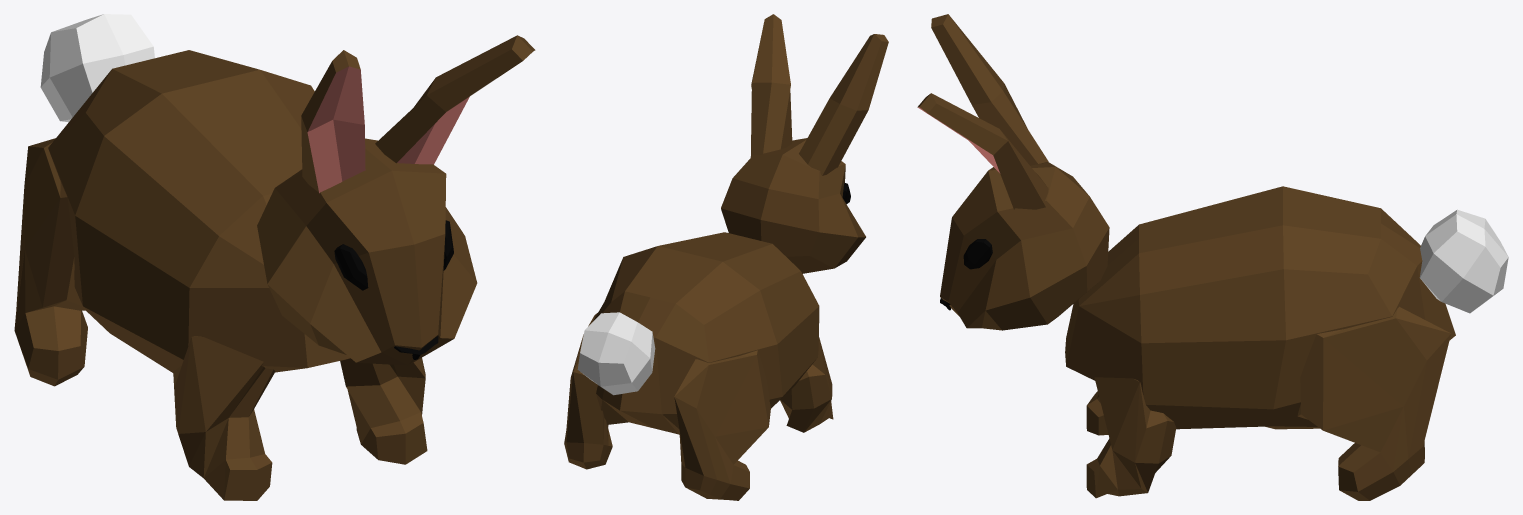
File: Bunny.fbx
3 renders of one model, left to right at view 1: azimuth 30°, elevation 25°; view 2: azimuth 150°, elevation 25°; view 3: azimuth 270°, elevation 25°, orthographic. The views are drawn at different scales.
Parts seen in each view (by area): view 1: Bunny; view 2: Bunny; view 3: Bunny.
Boxes of the visible parts, box(x1,y1,x2,y2) form: Bunny: box(14, 14, 535, 500); Bunny: box(564, 14, 888, 500); Bunny: box(917, 14, 1508, 500).
Bounding box in the file's own units: 0.0172 × 0.0301 × 0.0385.
Materials: 1 (1 with a texture image).
